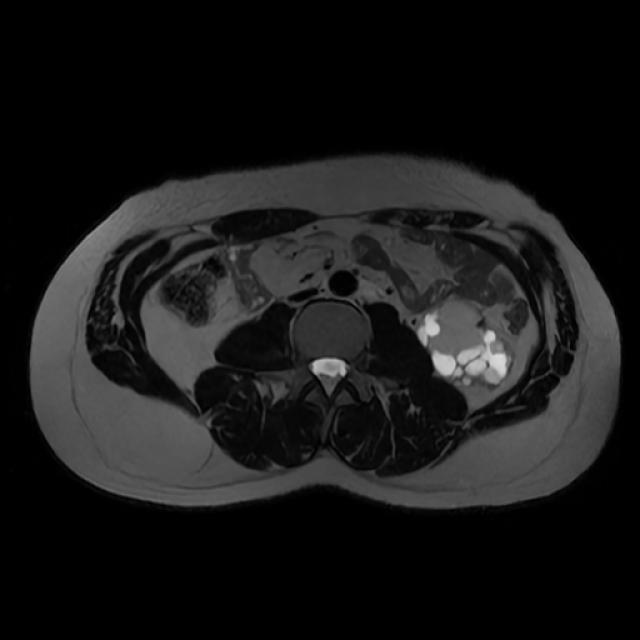sol: (413, 297, 516, 390)
